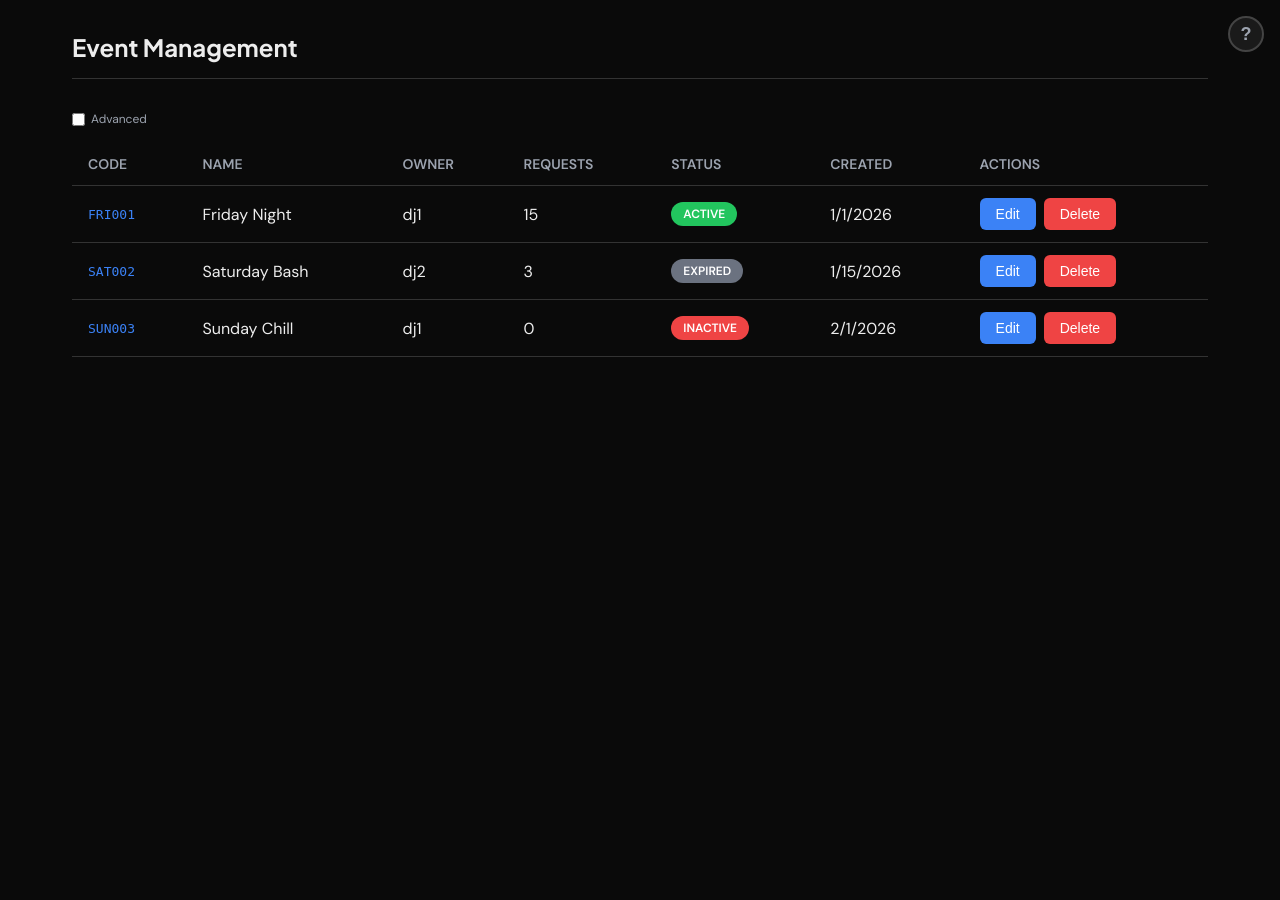
it: AdminEventsPage › shows error when edit fails
Expected: the text "Friday Night" is shown, [186,186,387,242]
Click the button "Edit" in the row of "FRI001": (1008, 214) [980,198,1036,230]
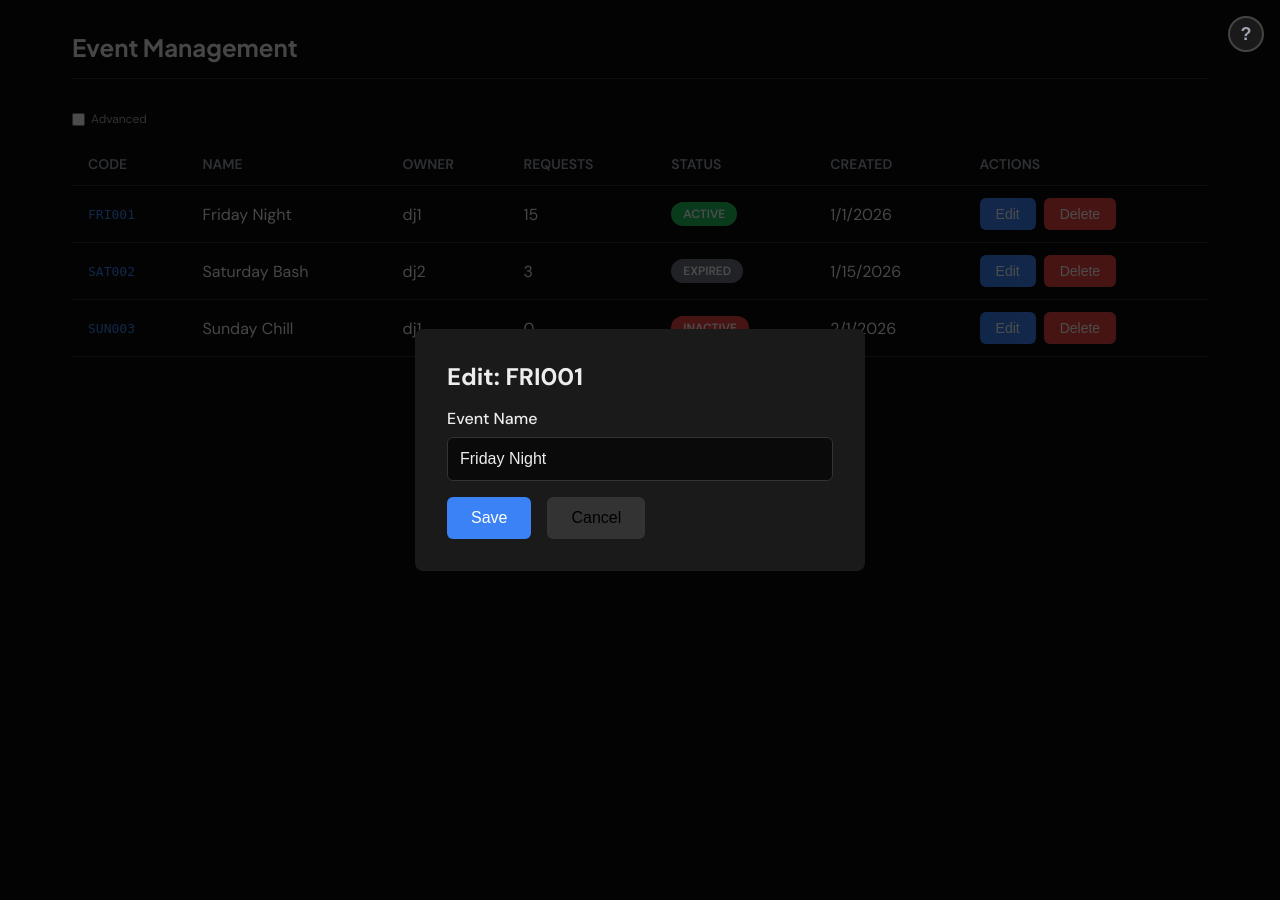
Submit the form from the button "Save", box [447,497,532,539]
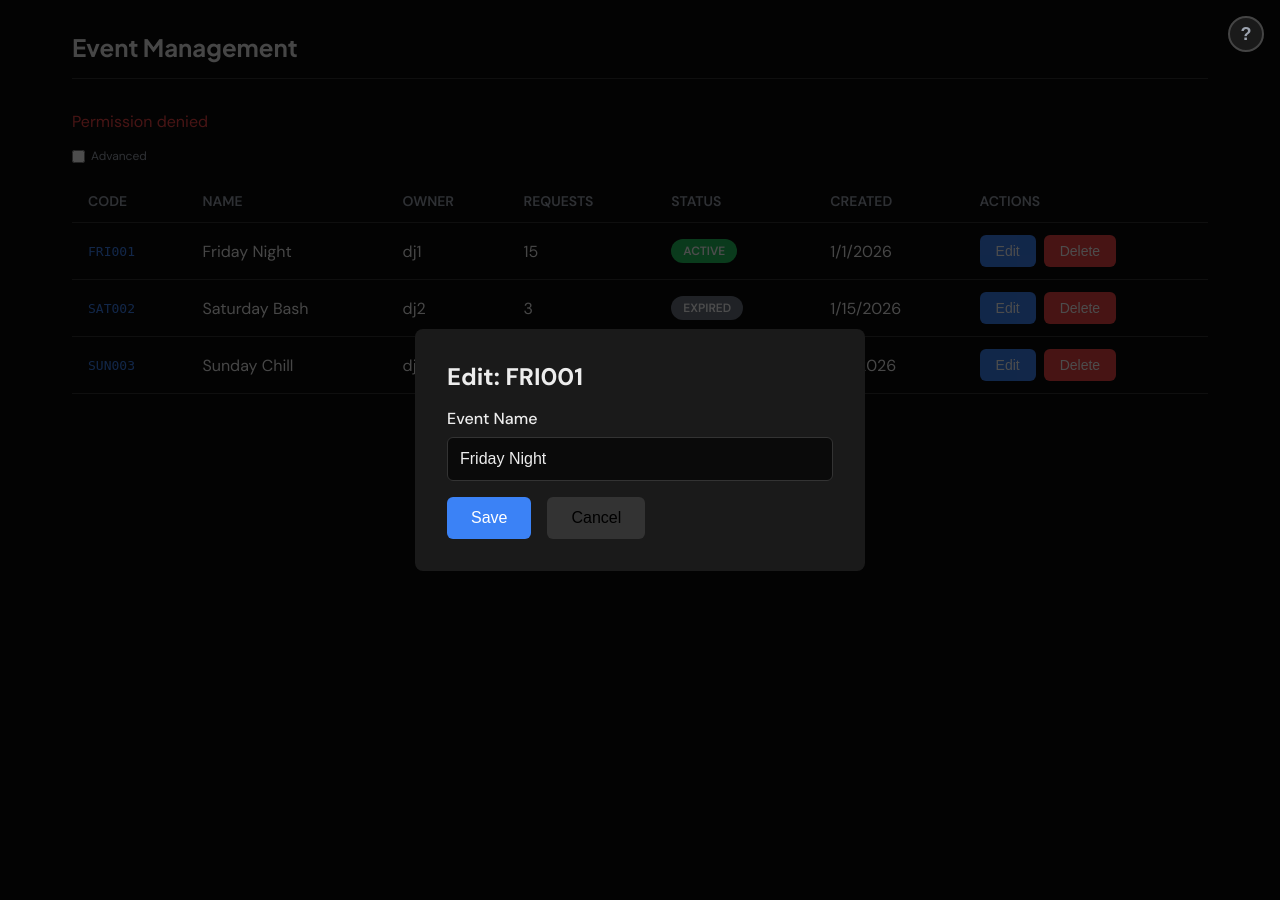
Expected: the text "Permission denied" is shown, [72,111,208,132]
